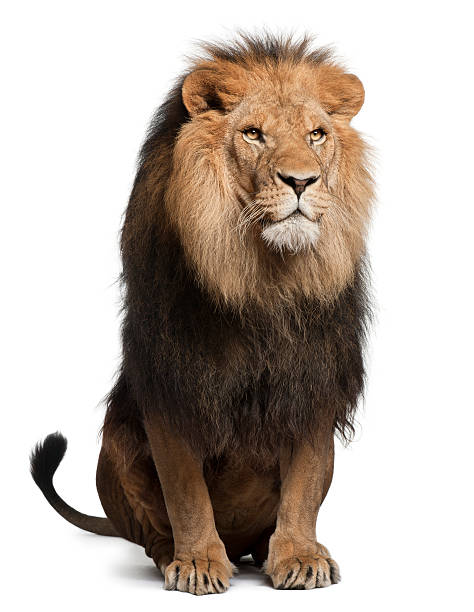lion: (87, 24, 392, 471)
